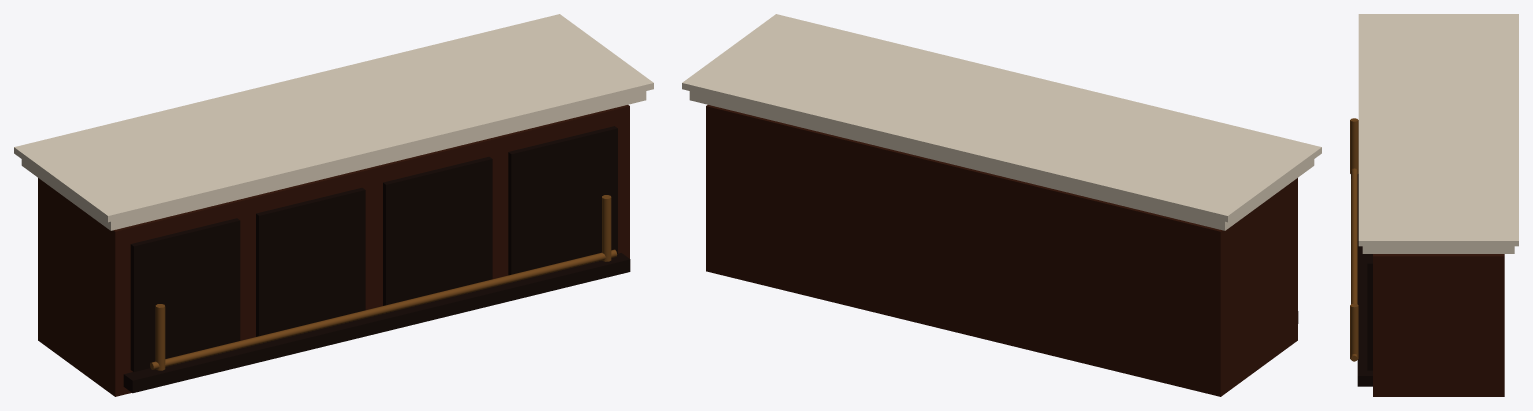
Rendered from bar_counter.glb.
3 views of the same model, side by side, from view 1: azimuth 30°, elevation 25°; view 2: azimuth 150°, elevation 25°; view 3: azimuth 270°, elevation 25° (orthographic). The views are drawn at different scales.
Parts seen in each view (by area): view 1: bar_counter; view 2: bar_counter; view 3: bar_counter.
Boxes of the visible parts, <box> form: bar_counter: <box>14,14,653,396</box>; bar_counter: <box>682,14,1321,396</box>; bar_counter: <box>1350,14,1518,396</box>.
Size of the model in its own units: 3.18 by 1.06 by 0.9999.
